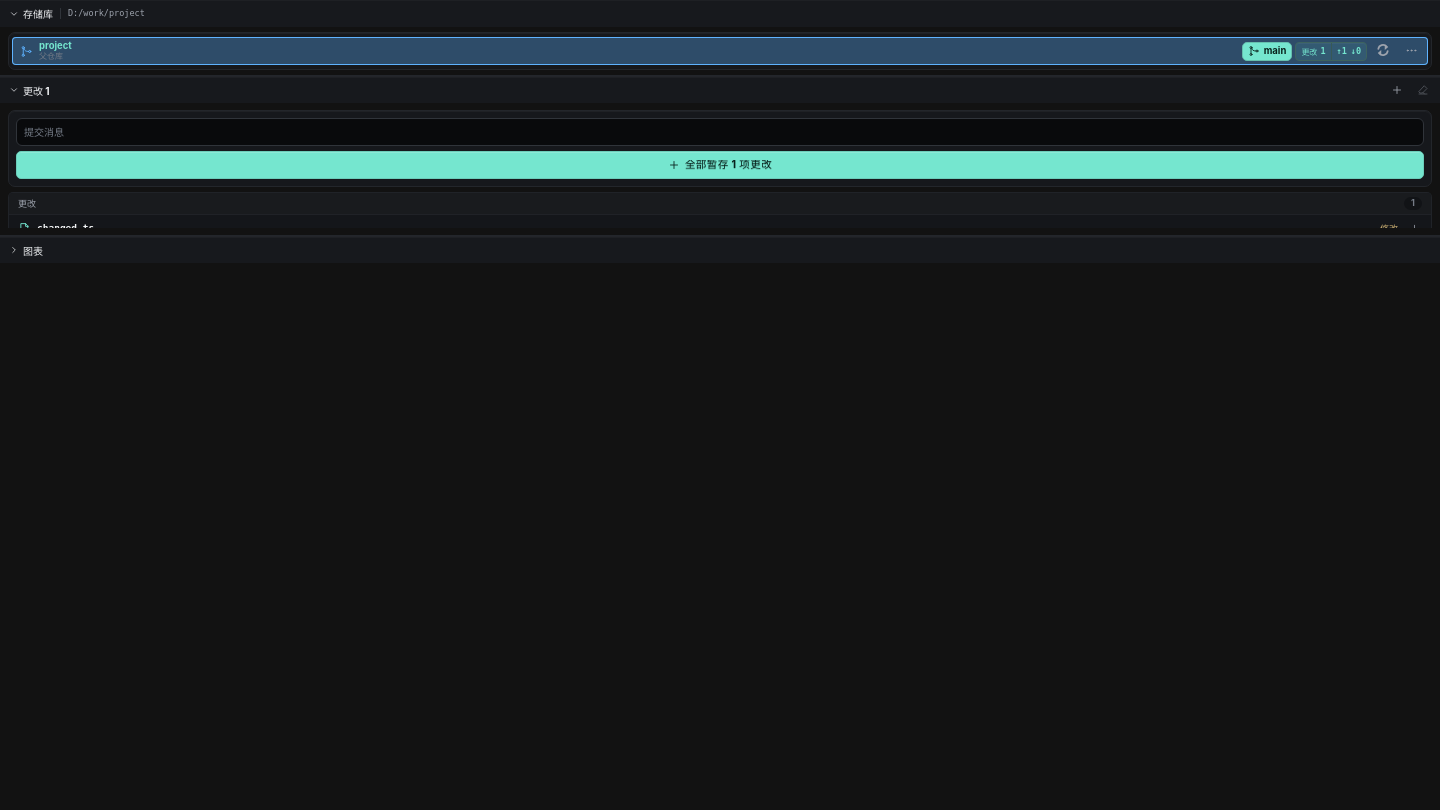
Test: GitPane merge, operations, and remote routing › refreshes the snapshot and closes stale confirmation after discard failure
Expected: the text "project" is shown, [39,40,72,51]
Right-click the button with aria-label "预览工作区更改 changed.ts": point(66, 228) [9,215,1402,241]
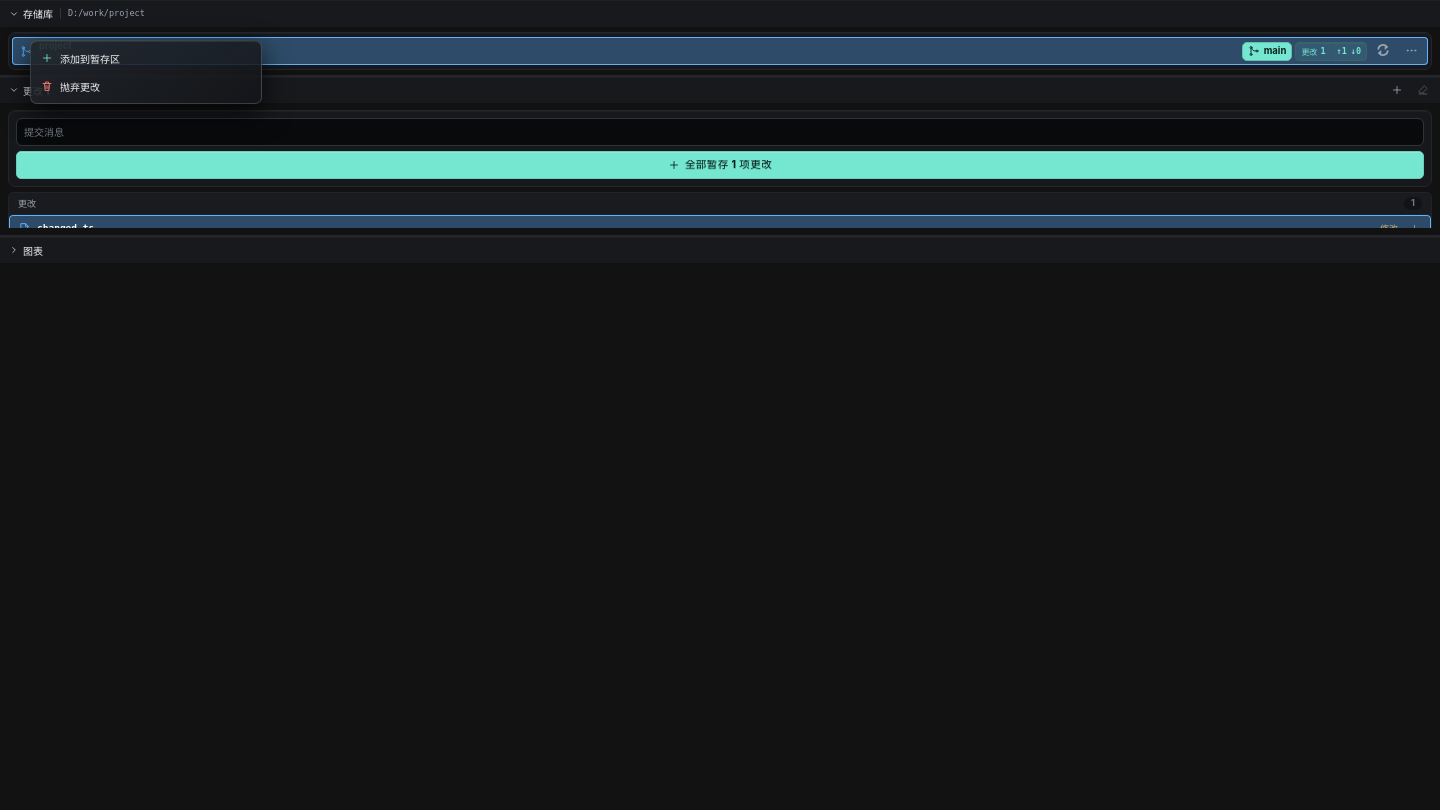
Click the menu item "抛弃更改": point(146, 86) [34,72,258,100]
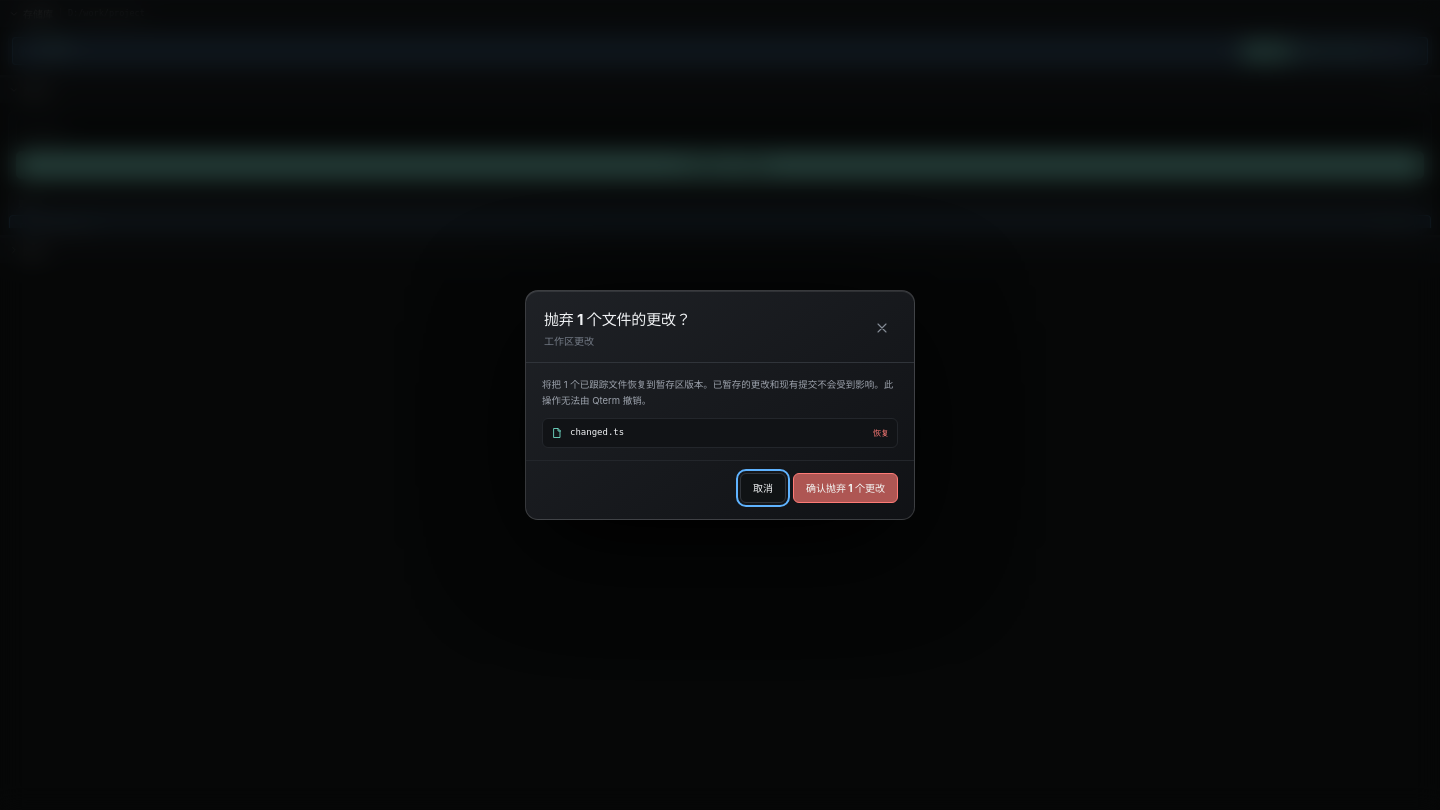
Click the button "确认抛弃 1 个更改": point(845, 488) [793,473,898,503]
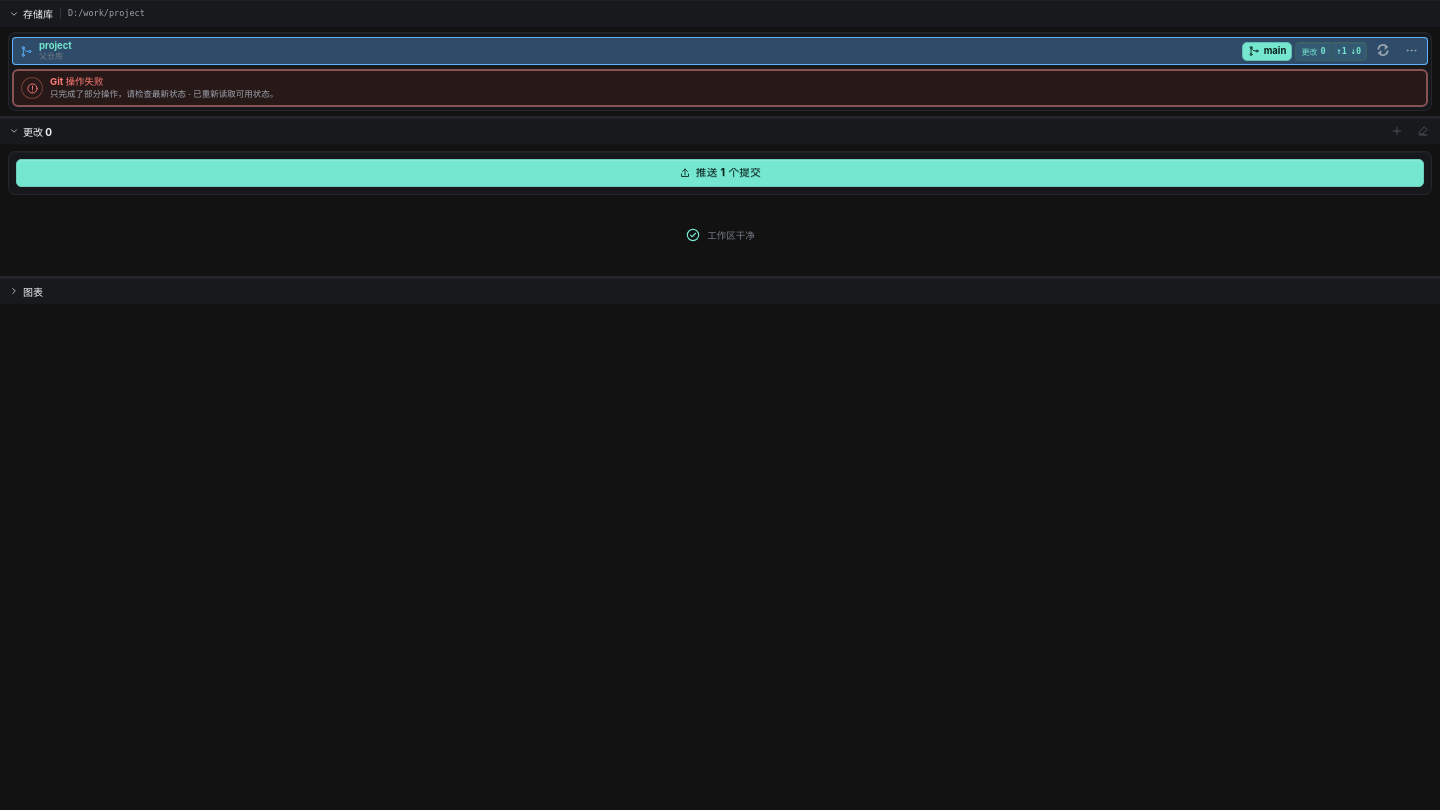
Expected: the heading "抛弃 1 个文件的更改？" is gone
Expected: the message shows "只完成了部分操作，请检查最新状态", [50,89,278,99]
Expected: the text "工作区干净" is shown, [685,226,755,242]
